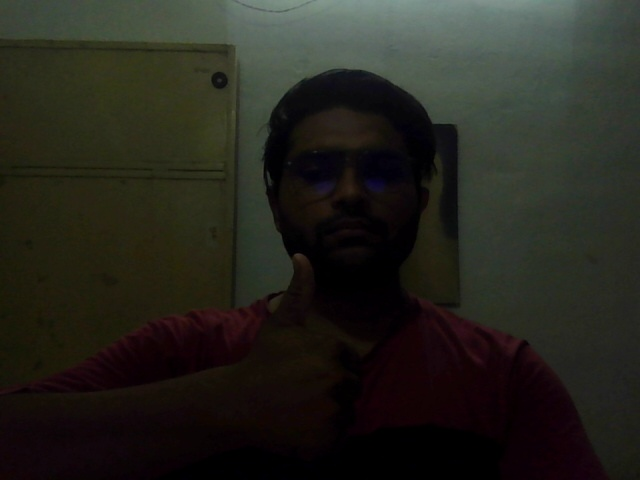ThumbsUp: (247, 250, 373, 473)
